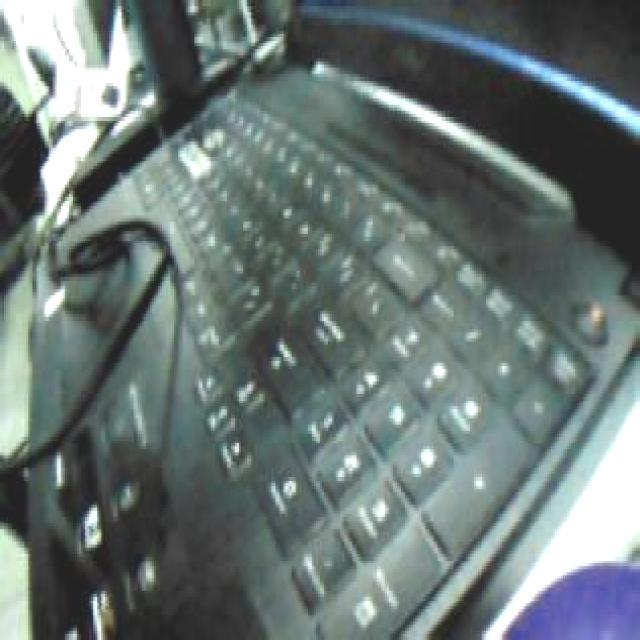BallPurple: (498, 554, 640, 640)
